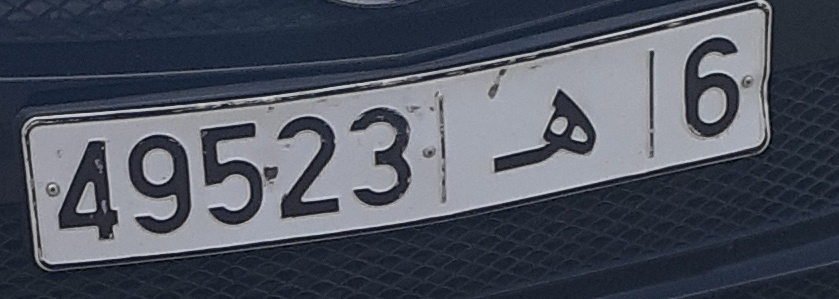2: (271, 109, 343, 225)
3: (345, 99, 420, 213)
4: (45, 135, 124, 250)
5: (196, 117, 267, 231)
6: (678, 26, 749, 145)
9: (125, 126, 197, 240)
h: (483, 84, 605, 178)
